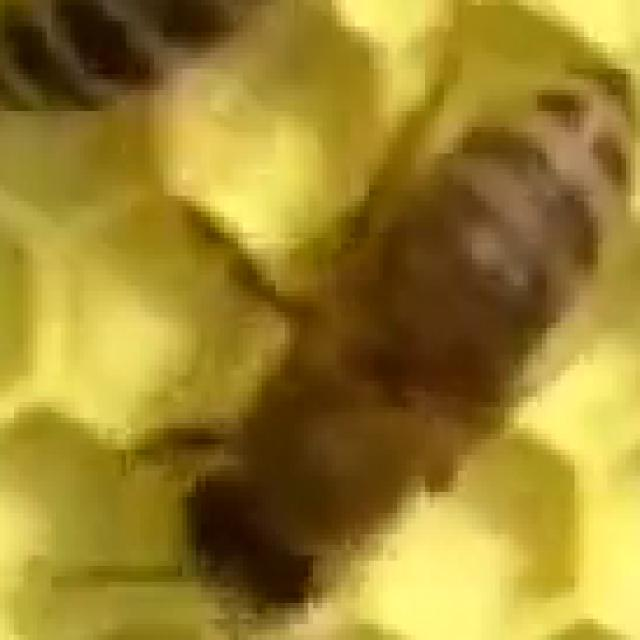honeybee: (158, 96, 622, 608)
